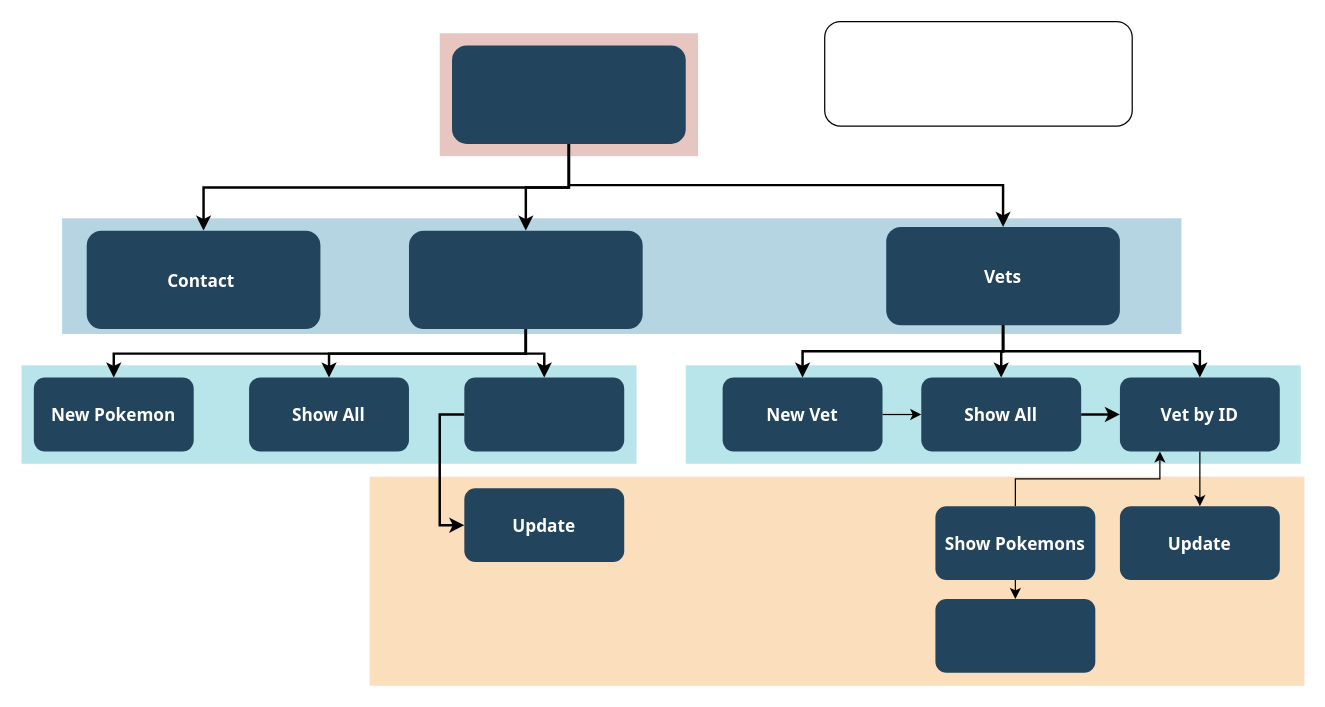
Some shapes in this 1325 by 707 pixel diagram are drawn without their labels. The shapes that lost their labels are listed below. From the top down, each one's centre as x and y in pixels, then its label:
At point 977,73: "Pokemon Centre".
At point 568,94: "Homepage".
At point 525,279: "Pokemon".
At point 544,414: "Pokemon by ID".
At point 1015,635: "Heal Pokemon".
